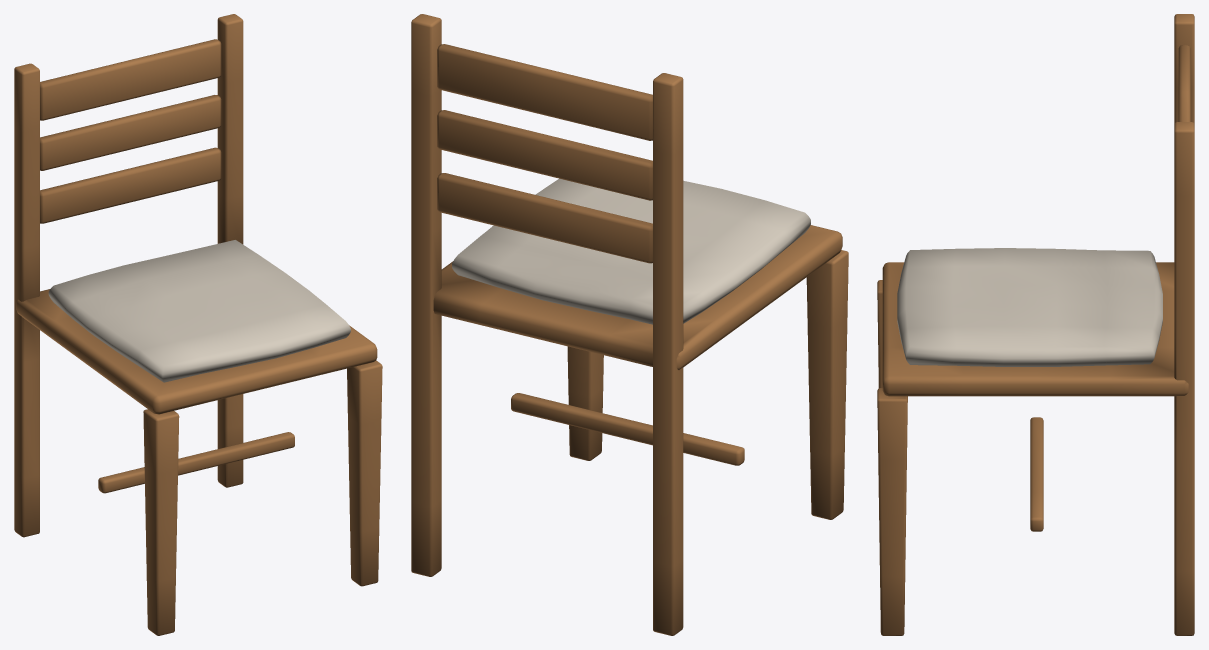
Rendered from chaise.glb.
The picture shows the model from 3 angles, left to right: view 1: azimuth 30°, elevation 25°; view 2: azimuth 150°, elevation 25°; view 3: azimuth 270°, elevation 25°; orthographic projection. The views are drawn at different scales.
Parts seen in each view (by area): view 1: corps, assise; view 2: corps, assise; view 3: corps, assise.
Boxes of the visible parts, box(x1,y1,x2,y2) form: corps: box(14, 14, 382, 635); assise: box(48, 240, 350, 382); corps: box(411, 14, 848, 635); assise: box(452, 178, 810, 324); corps: box(877, 14, 1194, 635); assise: box(897, 248, 1162, 366).
Bounding box in the file's own units: 0.4494 × 0.88 × 0.4997.
